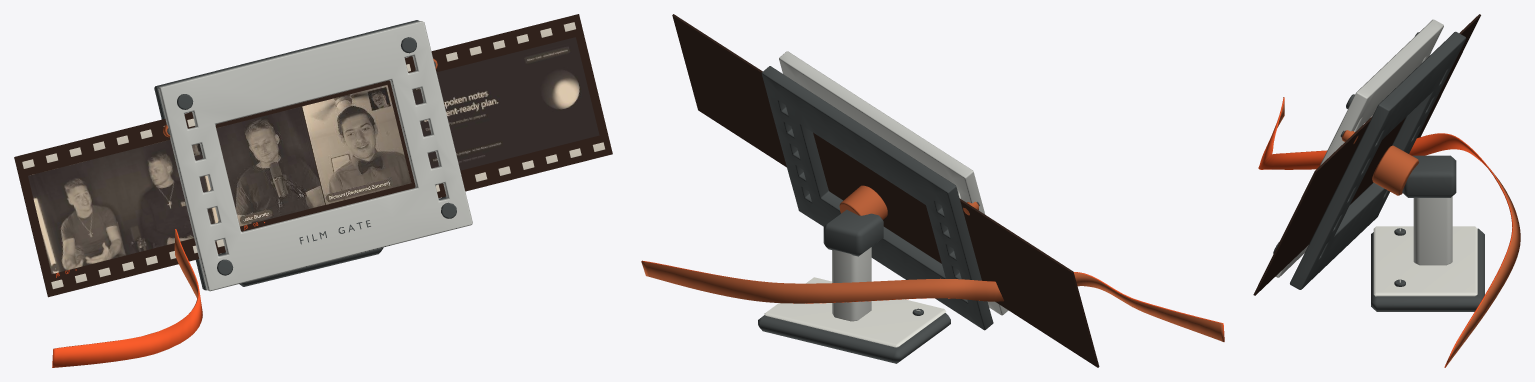
File: gate.glb
3 renders of one model, left to right at view 1: azimuth 30°, elevation 25°; view 2: azimuth 150°, elevation 25°; view 3: azimuth 270°, elevation 25°, orthographic. The views are drawn at different scales.
Visible parts, largest first — view 1: FilmAdvance, Bed; view 2: Bed, FilmAdvance; view 3: Bed, FilmAdvance.
Part boxes in pixels (left/top/right/bottom): FilmAdvance: left=14, top=14, right=612, bottom=297; Bed: left=52, top=20, right=472, bottom=367; Bed: left=641, top=51, right=1224, bottom=363; FilmAdvance: left=672, top=14, right=1099, bottom=367; Bed: left=1258, top=19, right=1520, bottom=367; FilmAdvance: left=1253, top=14, right=1480, bottom=295.
Bounding box in the file's own units: 8.64 × 3.5 × 3.57.
10 materials, 3 textured.
